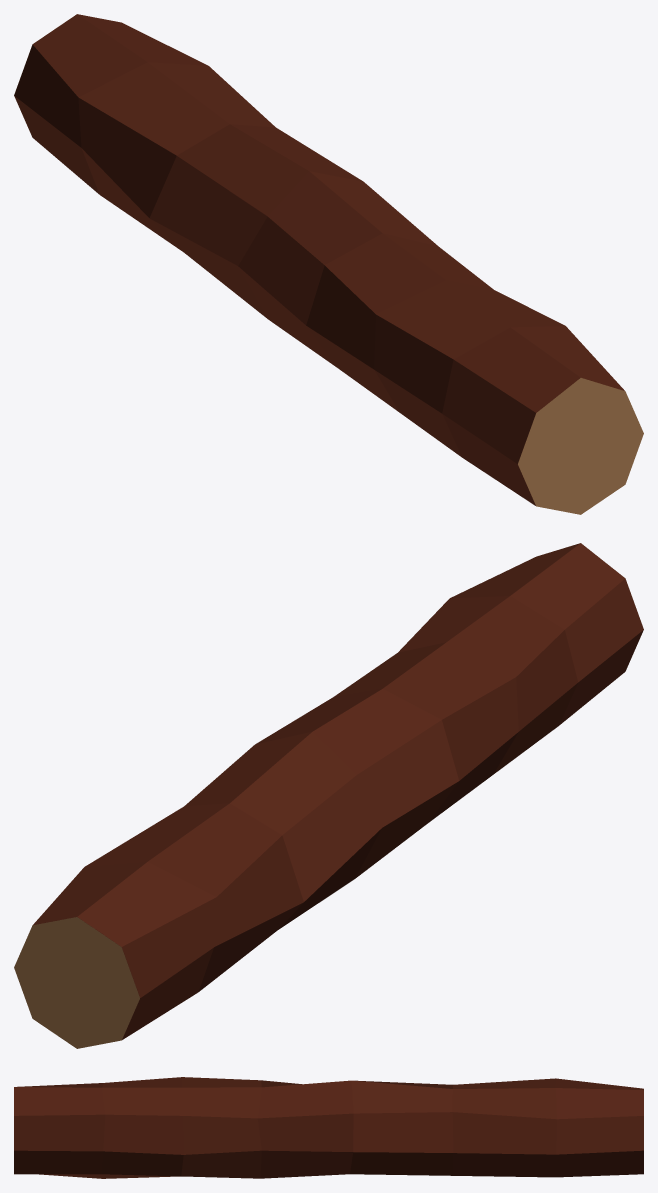
File: Wood 2.fbx
3 renders of one model, top to bottom at view 1: azimuth 30°, elevation 25°; view 2: azimuth 150°, elevation 25°; view 3: azimuth 270°, elevation 25°, orthographic. The views are drawn at different scales.
Parts seen in each view (by area): view 1: Cilindro.001; view 2: Cilindro.001; view 3: Cilindro.001.
Part boxes in pixels (x1,y1,x2,y2): Cilindro.001: (14, 14, 643, 514); Cilindro.001: (14, 543, 643, 1048); Cilindro.001: (14, 1077, 643, 1178).
Size of the model in its own units: 60.53 by 59.24 by 346.
